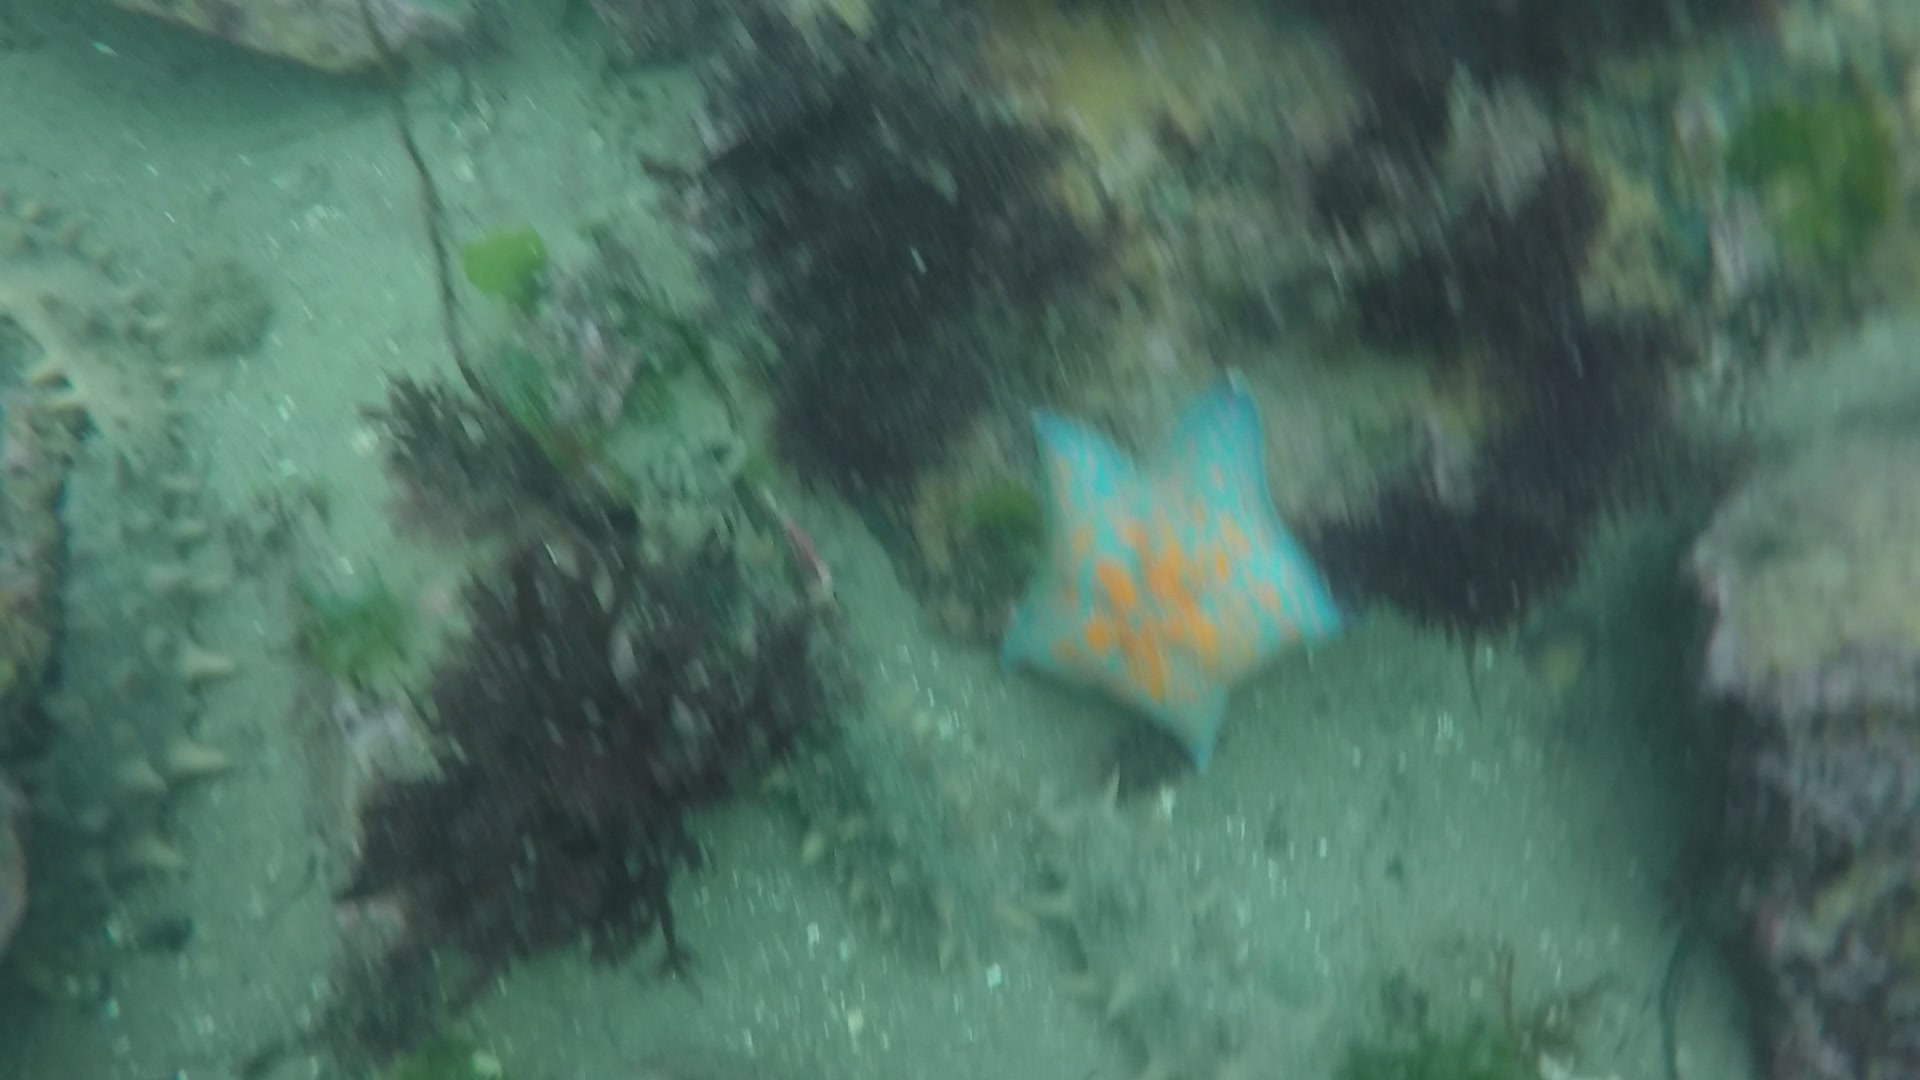holothurian: (13, 415, 228, 936), (742, 659, 996, 971), (1011, 789, 1240, 1080), (1, 191, 173, 477)
starfish: (992, 377, 1352, 767)
